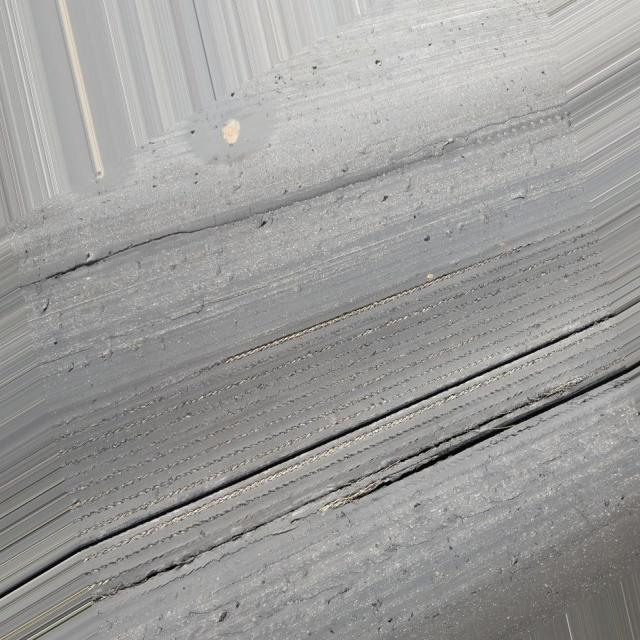Tear: (86, 307, 616, 553), (115, 350, 638, 595), (35, 107, 534, 300)
